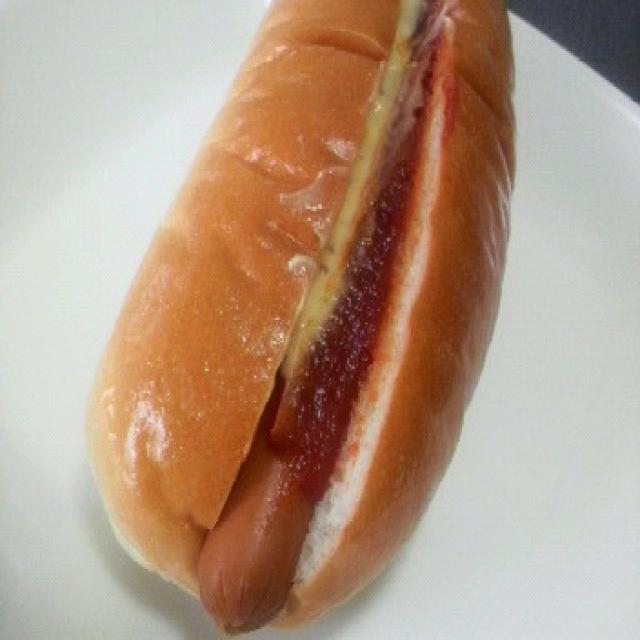Hot Dog: (73, 0, 531, 633)
